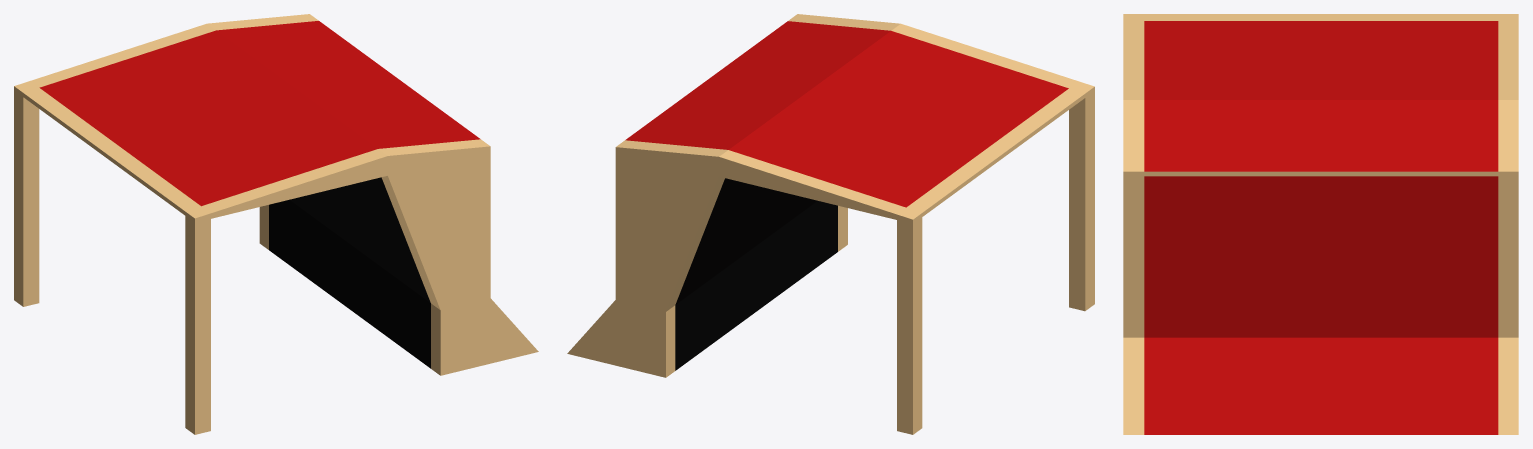
The model's file is CarStand.obj.
The picture shows the model from 3 angles, left to right: view 1: azimuth 30°, elevation 25°; view 2: azimuth 150°, elevation 25°; view 3: azimuth 270°, elevation 25°; orthographic projection. The views are drawn at different scales.
Visible parts, largest first — view 1: Cube.007_Cube.011; view 2: Cube.007_Cube.011; view 3: Cube.007_Cube.011.
Part boxes in pixels (x1,y1,x2,y2): Cube.007_Cube.011: (14,14,538,434); Cube.007_Cube.011: (567,14,1094,434); Cube.007_Cube.011: (1123,14,1518,434).
Bounding box in the file's own units: 5.06 × 3.27 × 4.6.
